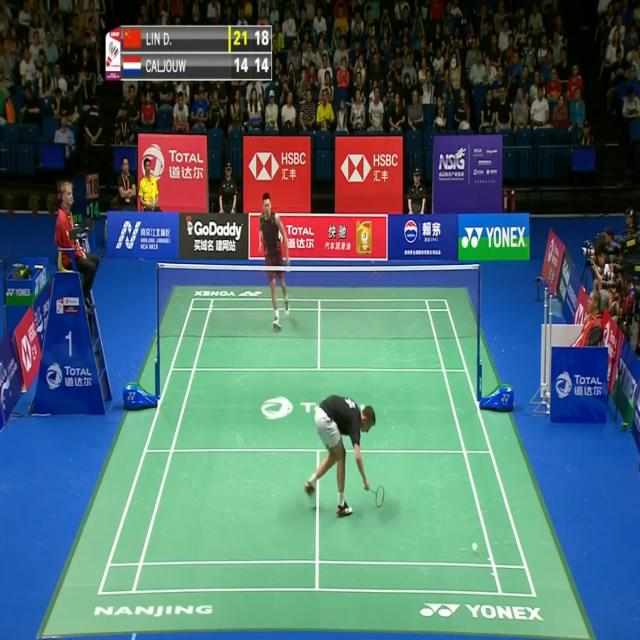Player1: (299, 382, 392, 548)
Player2: (252, 183, 296, 339)
